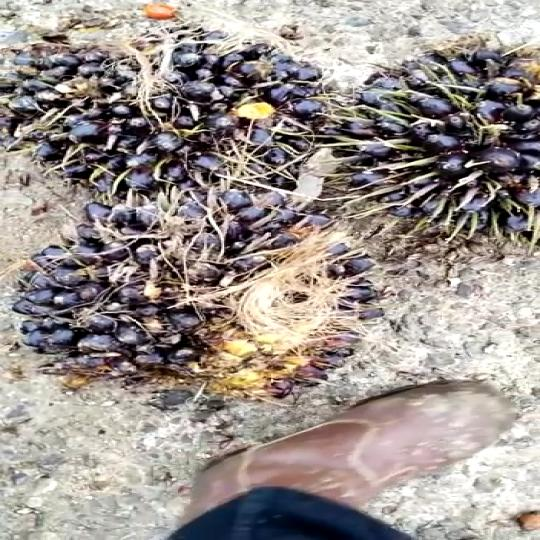mentah: (15, 202, 369, 440), (0, 0, 332, 181), (327, 16, 540, 271)
